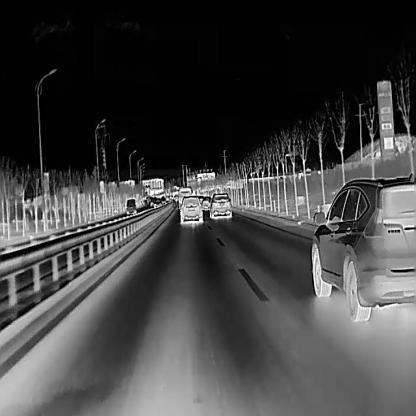car: (310, 171, 416, 321), (176, 196, 202, 223), (208, 192, 232, 218), (177, 186, 192, 208), (125, 198, 136, 214), (201, 195, 212, 210), (152, 200, 161, 208)
